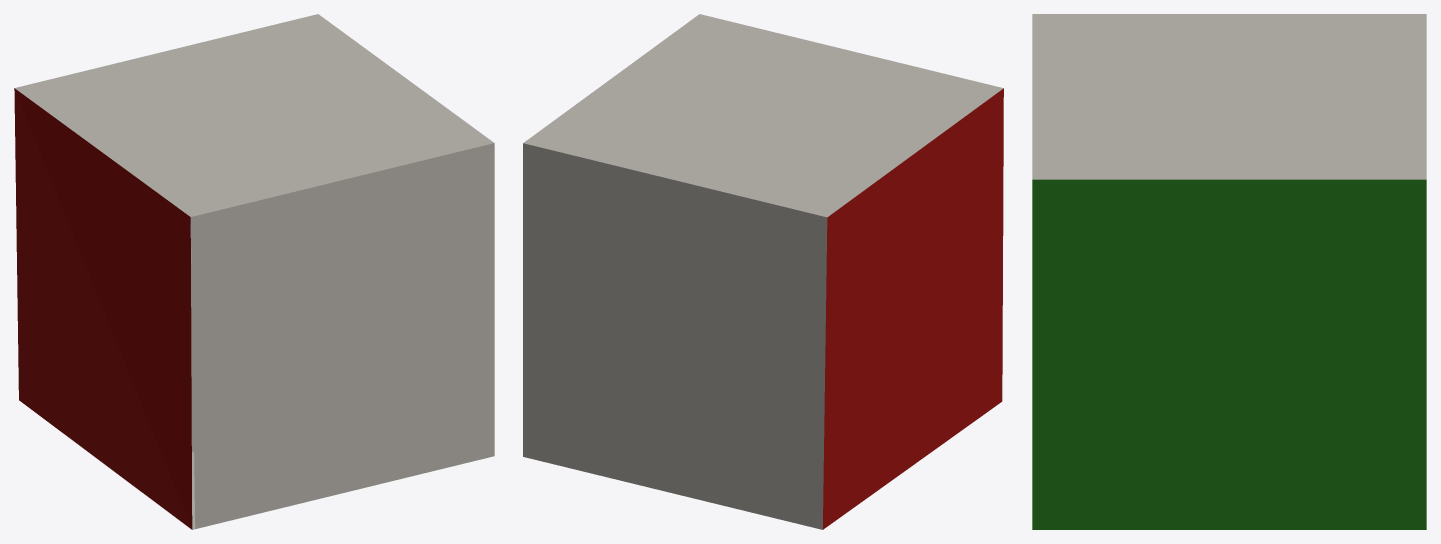
File: CornellBox.obj
3 views of the same model, side by side, from view 1: azimuth 30°, elevation 25°; view 2: azimuth 150°, elevation 25°; view 3: azimuth 270°, elevation 25° (orthographic). The views are drawn at different scales.
Parts seen in each view (by area): view 1: frontWall, leftWall, ceiling; view 2: backWall, leftWall, ceiling; view 3: rightWall, ceiling.
Boxes of the visible parts, x1,y1,x2,y2 form: frontWall: (190, 143, 494, 528); leftWall: (14, 88, 192, 529); ceiling: (15, 14, 493, 216); backWall: (523, 143, 827, 529); leftWall: (823, 88, 1003, 529); ceiling: (523, 14, 1003, 217); rightWall: (1032, 179, 1426, 529); ceiling: (1032, 14, 1426, 179).
Bounding box in the file's own units: 2.02 × 1.99 × 2.03.
